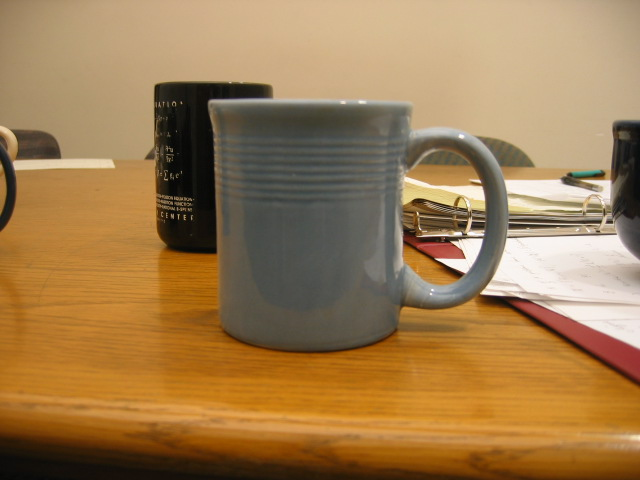mug: (205, 98, 510, 353)
